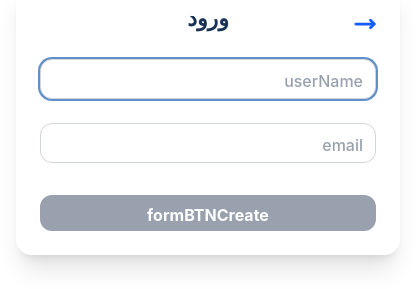
Scenario: submit button should enable when inputs are valid
Check: the button with aria-label "formBTNCreateAria" is disabled, box [40,194,376,230]
Type "mojtabaDev" into the field with placeholder "userName" at (208, 78), box [40,58,376,98]
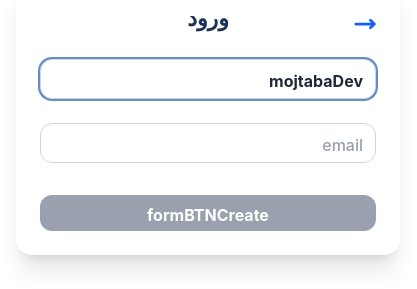
Check: the button with aria-label "formBTNCreateAria" is disabled, box [40,194,376,230]
Type "mojtaba@example.com" into the field with placeholder "email" at (208, 142), box [40,122,376,162]
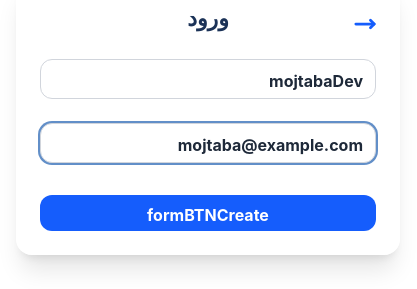
Check: the button with aria-label "formBTNCreateAria" is enabled, box [40,194,376,230]
